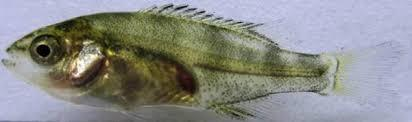Silver Perch: (0, 0, 409, 122)
